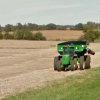Tractor: (49, 28, 96, 76)
